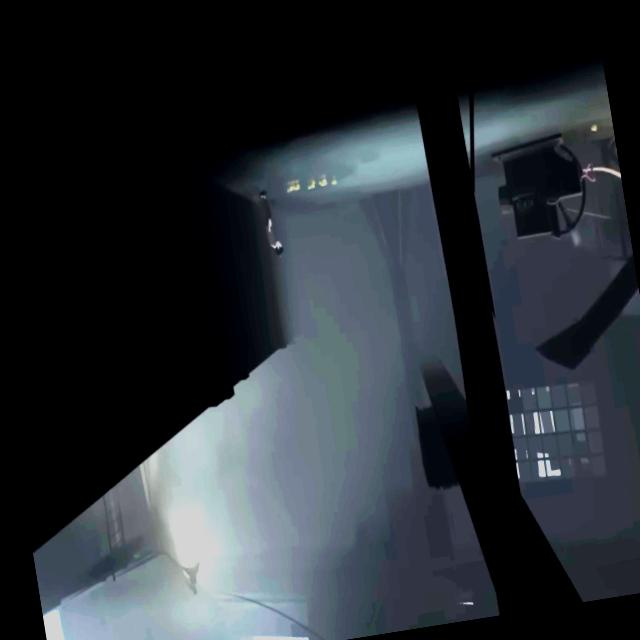boy: (258, 187, 284, 260)
